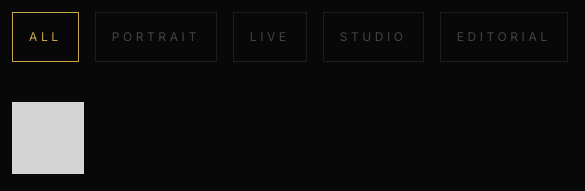
GalleryGrid › renders empty state when no images match filter
Click the button "live": (270, 37) [233,12,307,62]
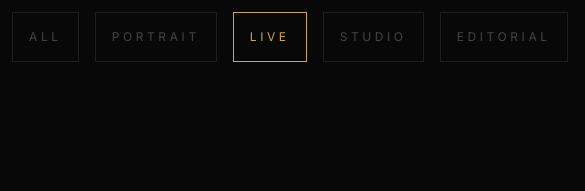
Result: the picture is gone
